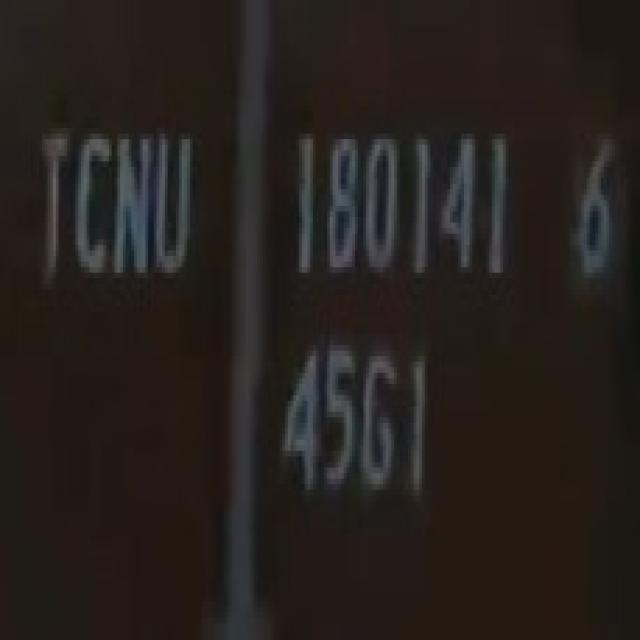dv: (557, 120, 629, 282)
owner: (25, 119, 222, 303)
serial: (282, 96, 515, 300)
size: (274, 342, 444, 528)
